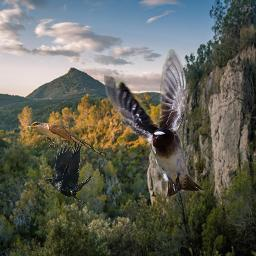Crow: (44, 138, 93, 208)
Cuckoo: (26, 121, 107, 157)
Swallow: (104, 49, 205, 197)
